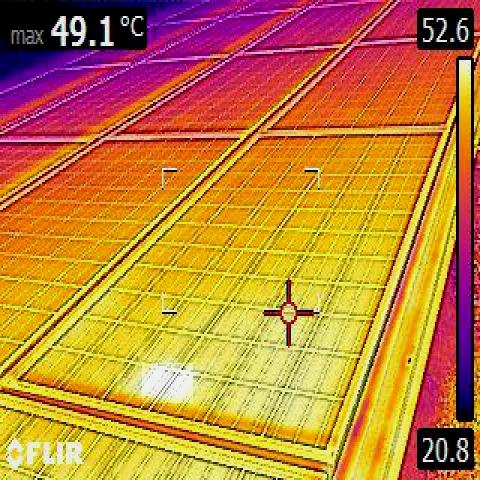fault: (142, 363, 193, 403)
